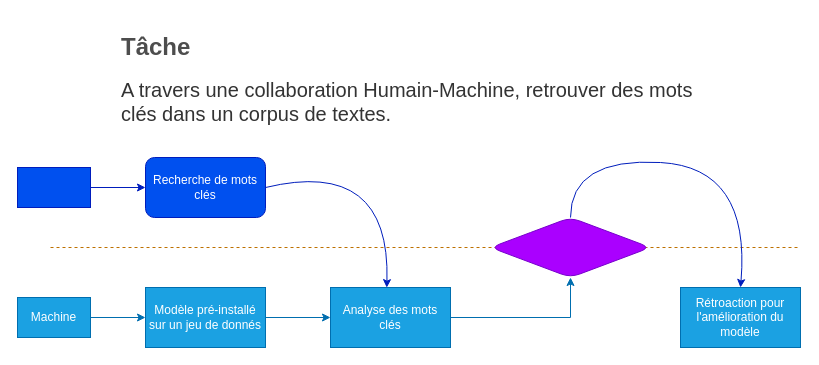
Some shapes in this 819 by 365 pixel diagram are drawn without their labels. The centre of each missing label's shape, as x and y in pixels:
Humain: point 53,187
Validation de l'analyse: point 570,247
